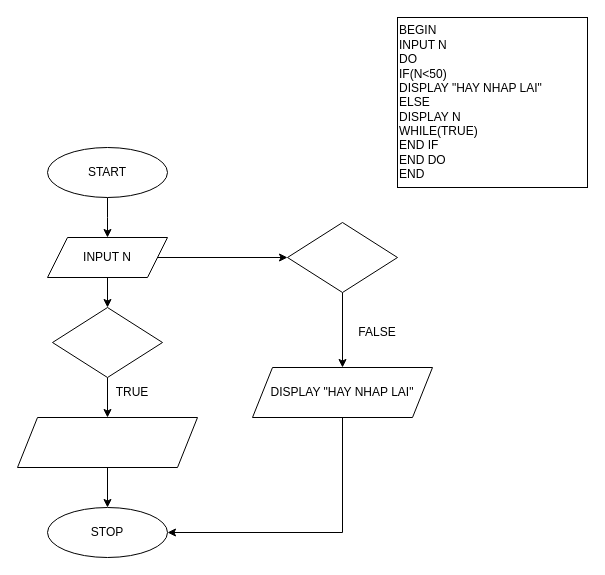
This 605x575 diagram has some shape labels left out. The shapes that lost their labels are listed below. From the top down, each one's centre as x and y in pixels, then its label:
(x=342, y=257): N<50
(x=107, y=342): N>=50
(x=107, y=442): DISPLAY N
